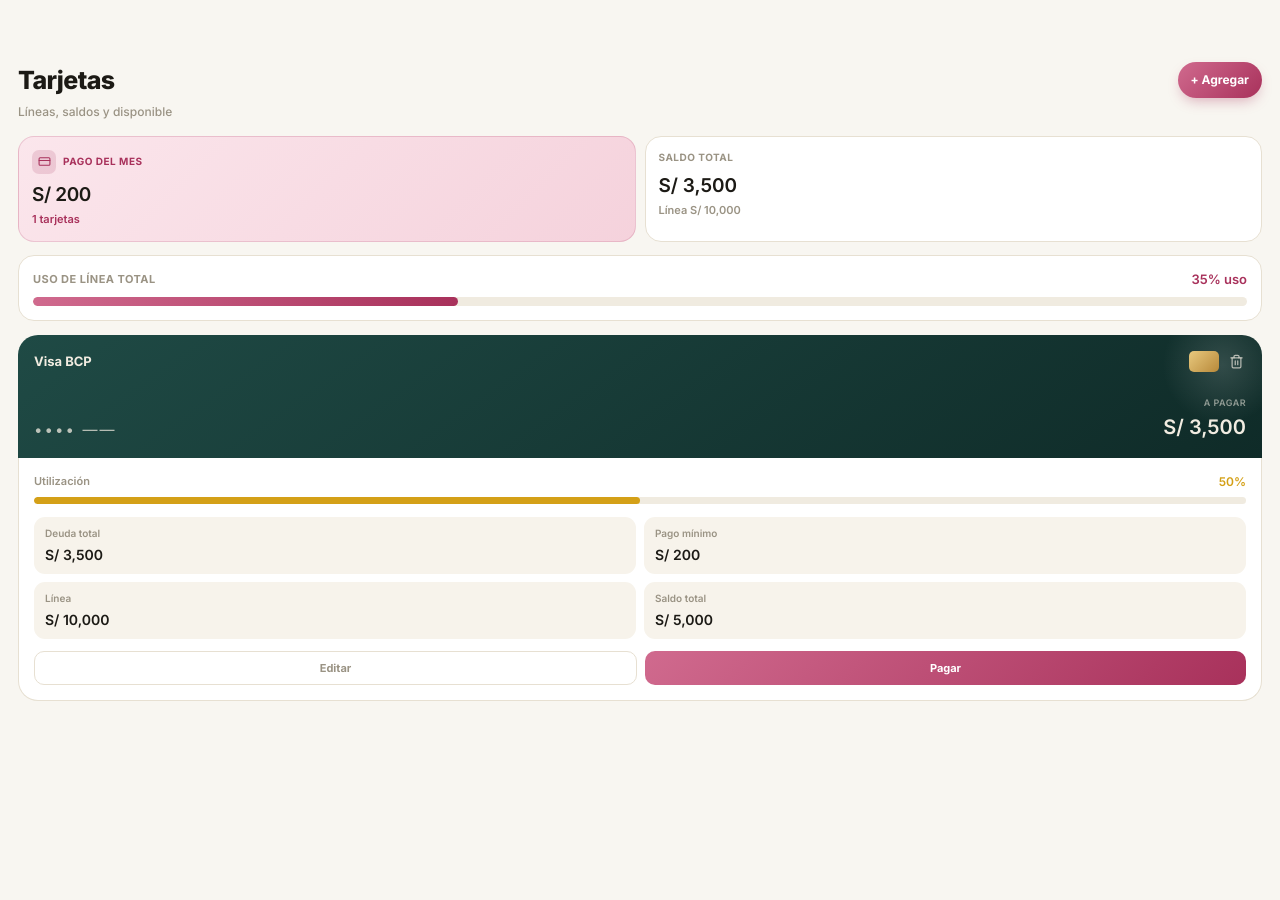
it: should TarjetasView › should populate edit form with current values
The image size is (1280, 900).
What coordinates should you click on to do the following:
click the button with test id "edit-button"
I would click on:
 (336, 668)
Its box is [34,650,637,685].
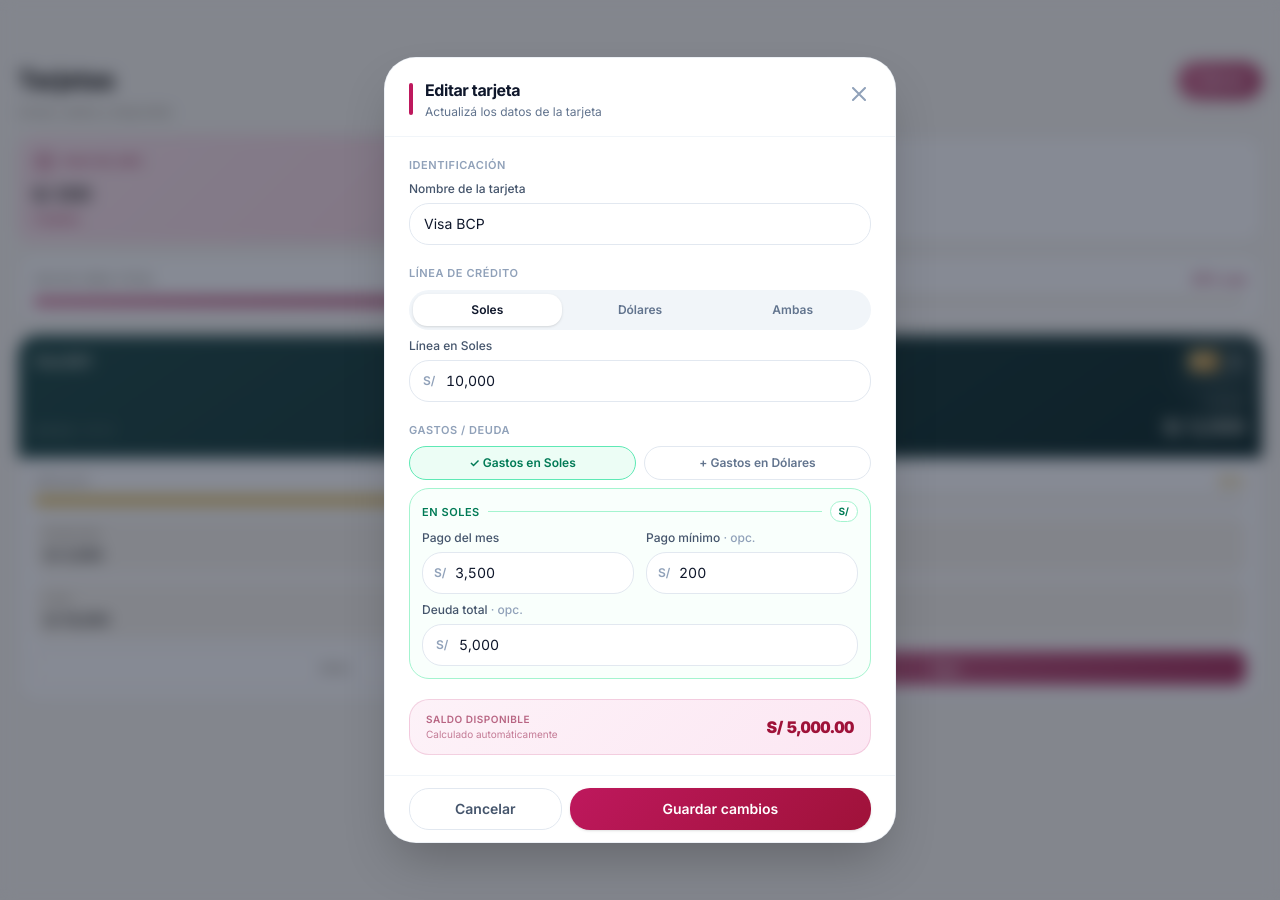
Expected: the field with test id "descripcion-input" holds "Visa BCP", [409,203,871,245]
